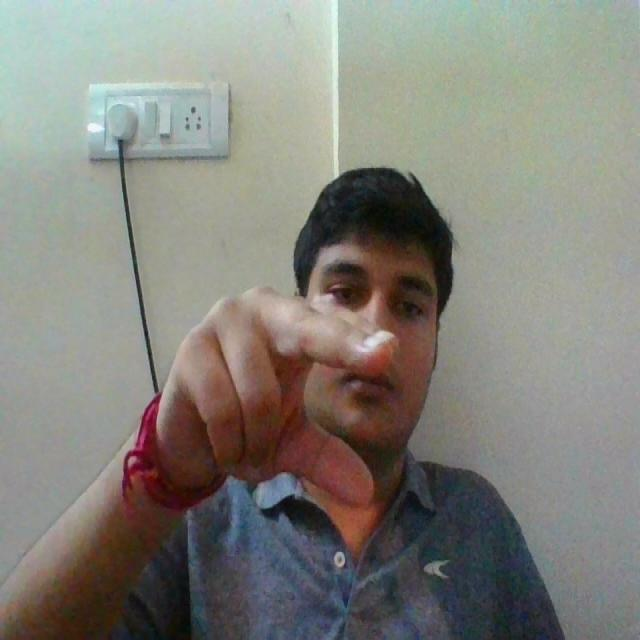no: (162, 276, 395, 537)
